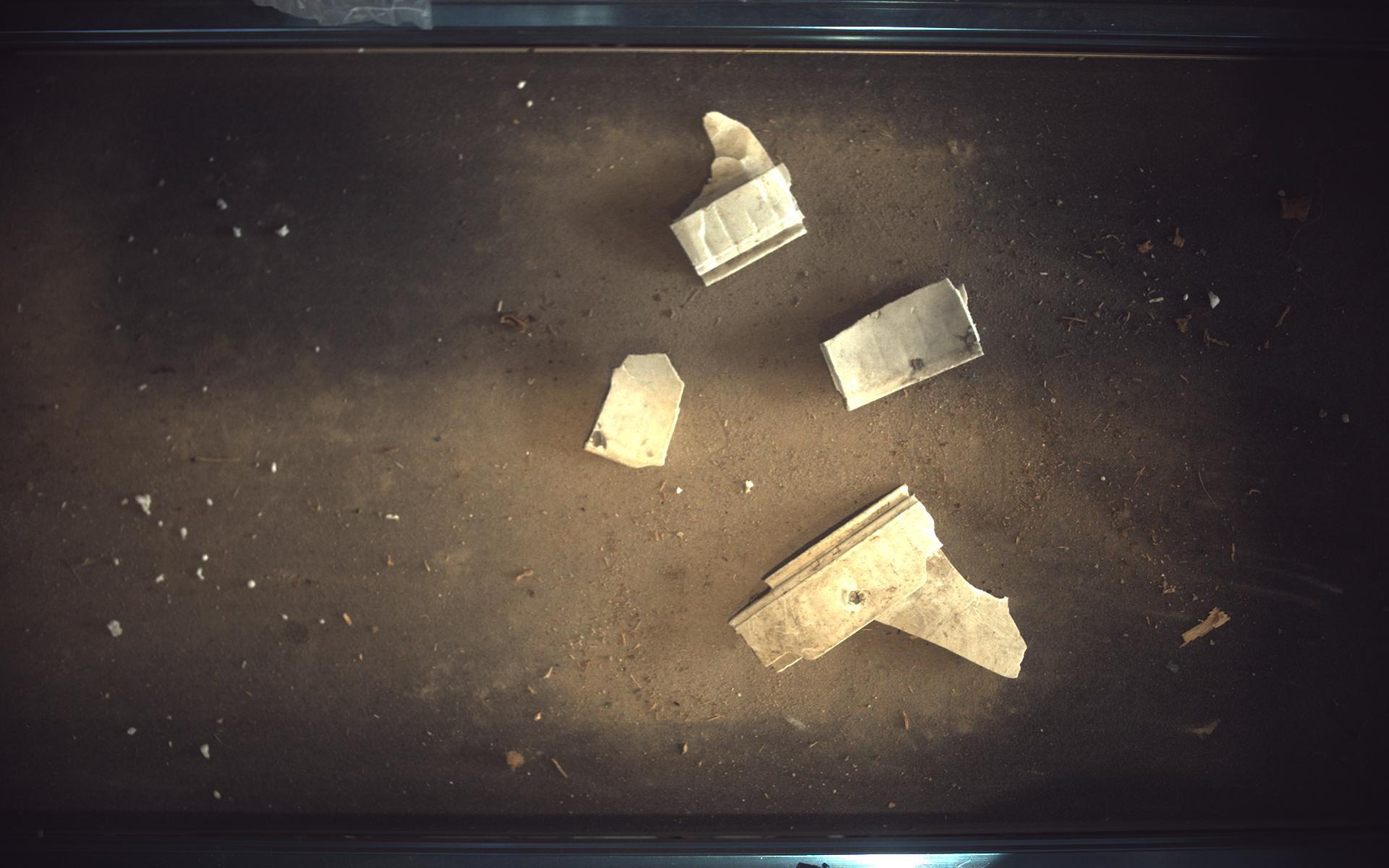plastic: (731, 485, 1029, 679), (672, 110, 808, 286), (823, 278, 985, 410), (585, 354, 685, 469)
